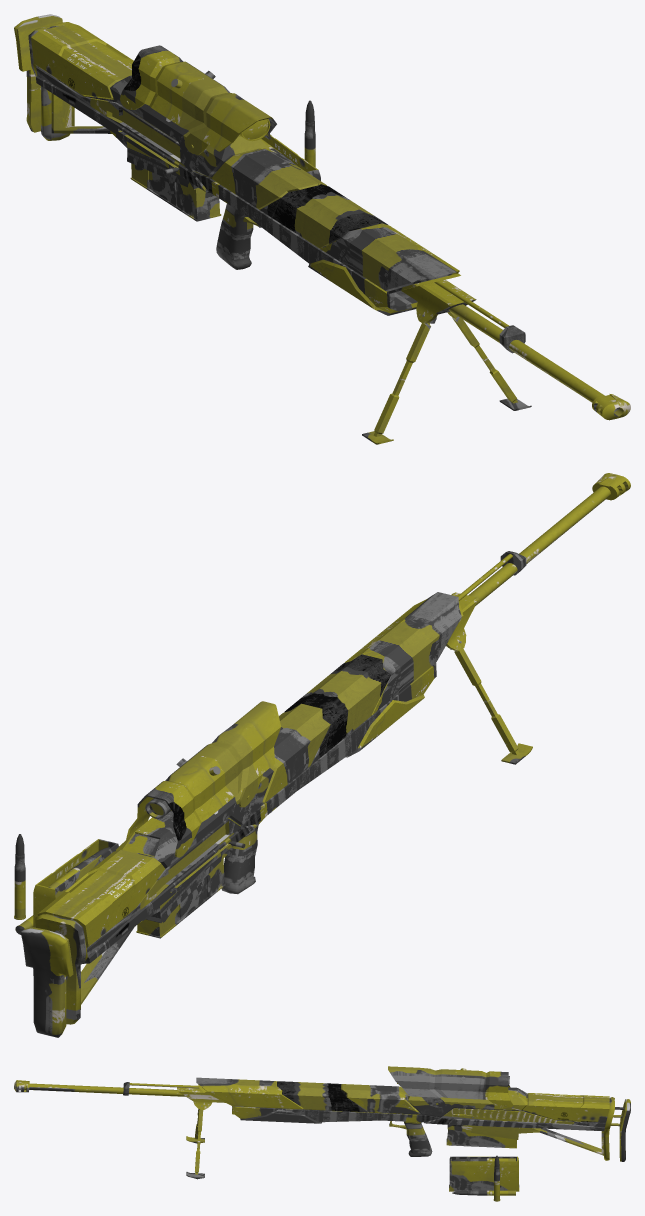
File: armasniper.obj
3 renders of one model, top to bottom at view 1: azimuth 30°, elevation 25°; view 2: azimuth 150°, elevation 25°; view 3: azimuth 270°, elevation 25°, orthographic. The views are drawn at different scales.
Parts seen in each view (by area): view 1: Cube.001_Cube.004; view 2: Cube.001_Cube.004; view 3: Cube.001_Cube.004.
Boxes of the visible parts, x1,y1,x2,y2 form: Cube.001_Cube.004: (14,14,630,444); Cube.001_Cube.004: (14,473,630,1037); Cube.001_Cube.004: (14,1066,630,1201).
Size of the model in its own units: 1.61 by 1.19 by 7.09.
1 material, 1 textured.
